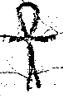Ankh: (4, 2, 55, 95)
